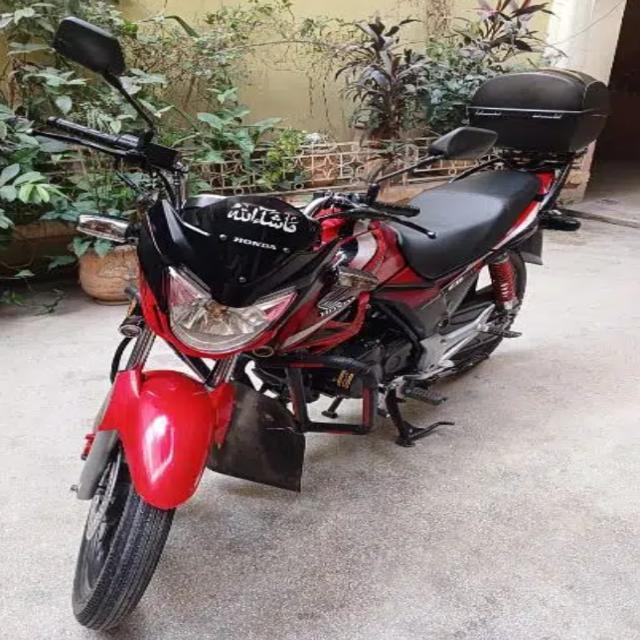Bike: (77, 129, 584, 615)
